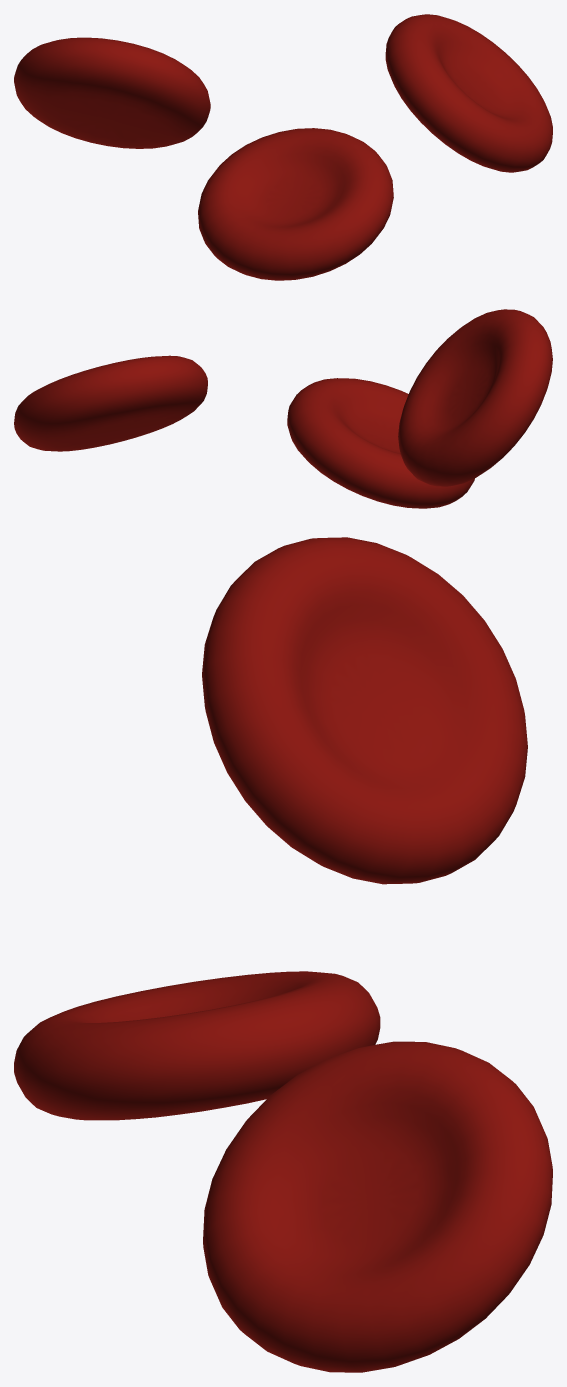
The model's file is rbc.glb.
3 renders of one model, top to bottom at view 1: azimuth 30°, elevation 25°; view 2: azimuth 150°, elevation 25°; view 3: azimuth 270°, elevation 25°, orthographic. The views are drawn at different scales.
Parts seen in each view (by area): view 1: Object_4; view 2: Object_4; view 3: Object_4.
Boxes of the visible parts, <box> form: Object_4: <box>14,14,552,280</box>; Object_4: <box>14,309,552,508</box>; Object_4: <box>14,537,552,1372</box>.
Bounding box in the file's own units: 1.36 × 0.5846 × 0.6636.
